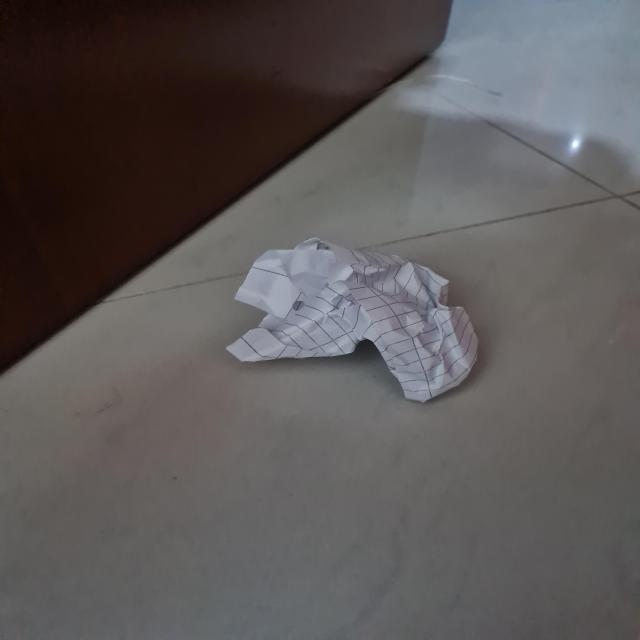trash: (230, 246, 490, 402)
